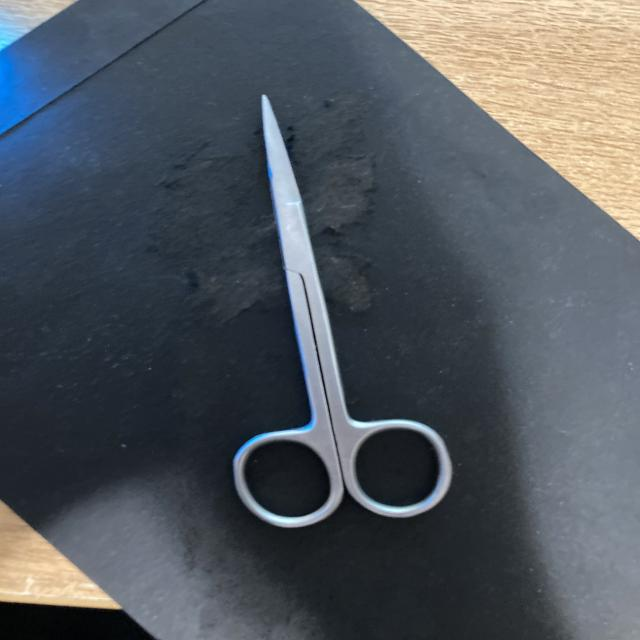Gunting: (227, 88, 463, 534)
